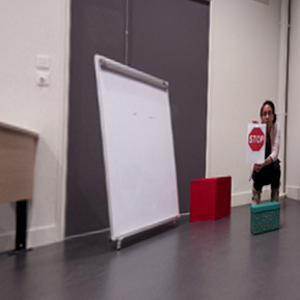stop: (248, 127, 265, 152)
